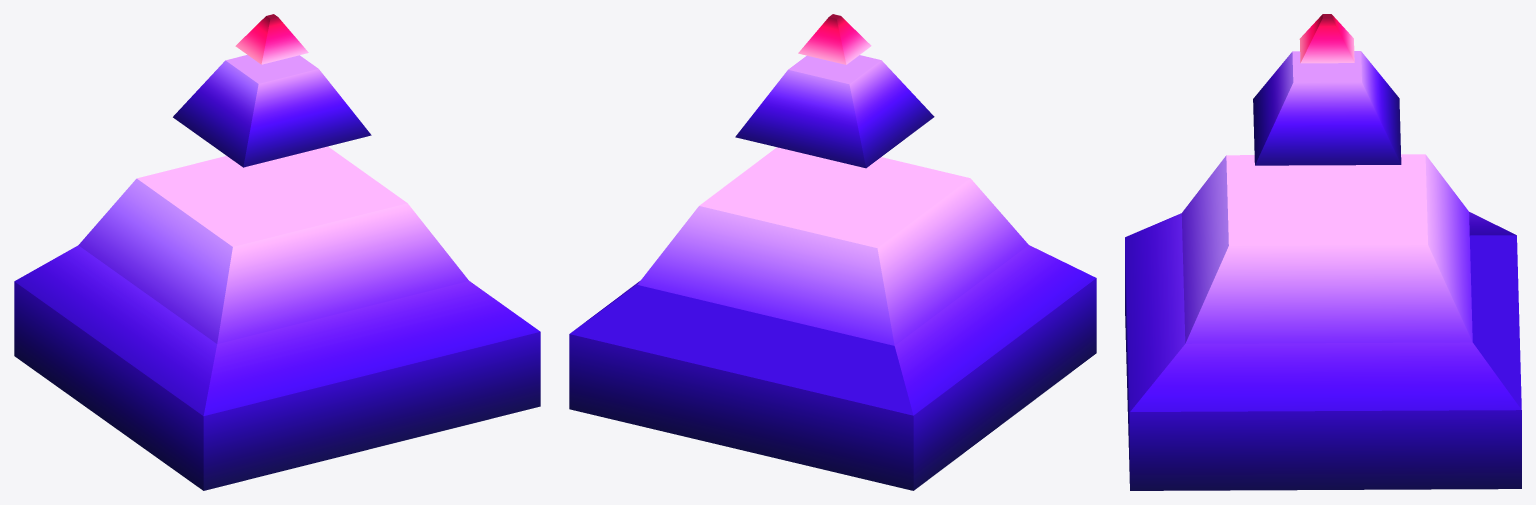
The model's file is pyramid-BMsXU2-s.glb.
3 views of the same model, side by side, from view 1: azimuth 30°, elevation 25°; view 2: azimuth 150°, elevation 25°; view 3: azimuth 270°, elevation 25° (orthographic). The views are drawn at different scales.
Visible parts, largest first — view 1: Cube.002; view 2: Cube.002; view 3: Cube.002.
Part boxes in pixels (x1,y1,x2,y2): Cube.002: [14, 14, 540, 490]; Cube.002: [569, 14, 1096, 490]; Cube.002: [1125, 14, 1521, 490].
Bounding box in the file's own units: 37.75 × 38.3 × 35.79.
1 material, 1 textured.
